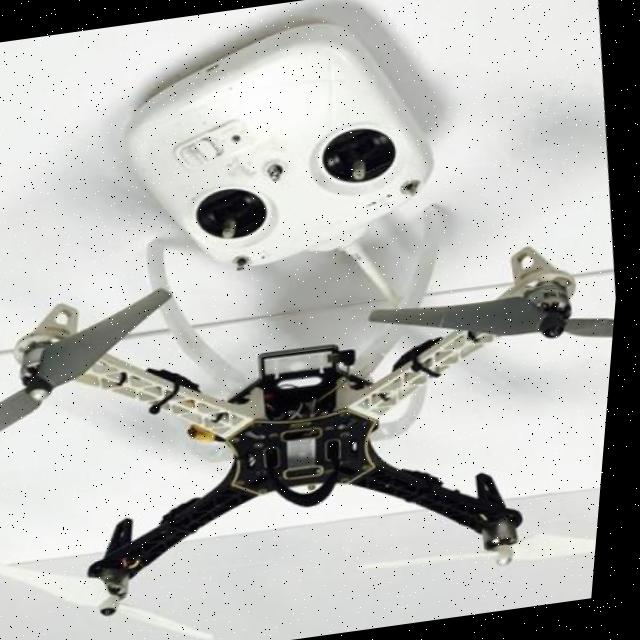drones: (0, 203, 627, 640)
